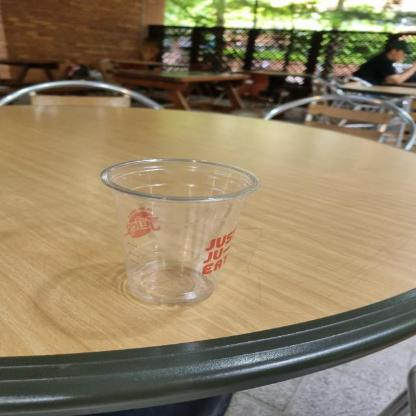Plastic Cup: (96, 152, 260, 310)
